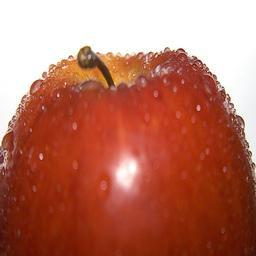apple: (0, 45, 256, 253)
